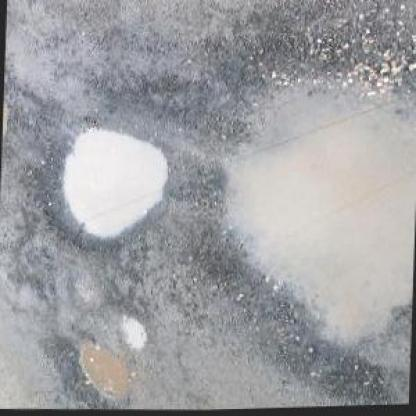pothole: (179, 49, 414, 396), (36, 113, 172, 250), (53, 333, 136, 410), (114, 314, 151, 352)
